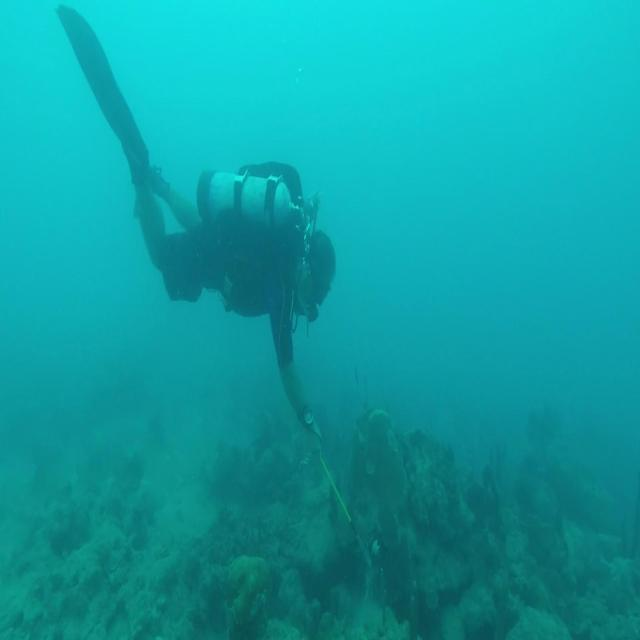human: (54, 3, 337, 447)
